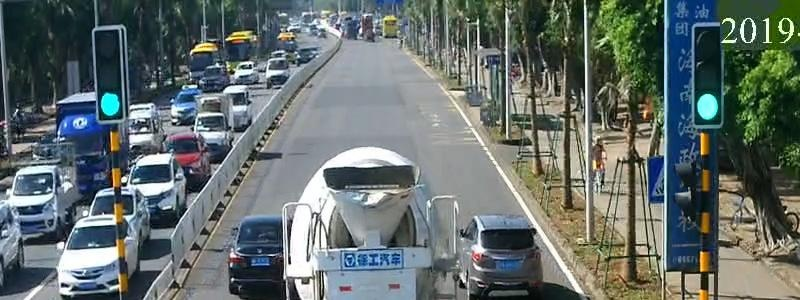green: (685, 86, 741, 133), (90, 86, 134, 124)
